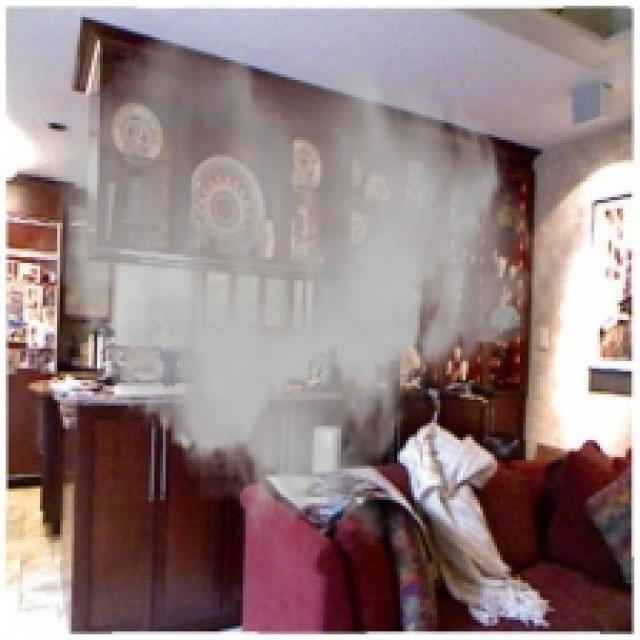smoke: (23, 20, 537, 549)
